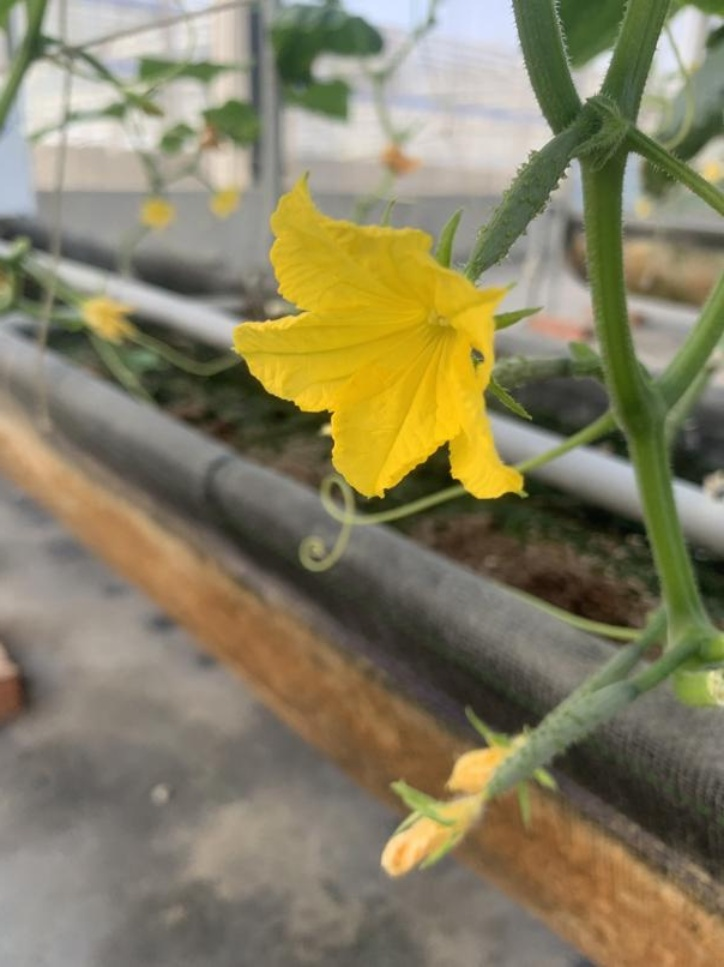bear: (362, 672, 631, 888)
flowering: (230, 127, 586, 524)
